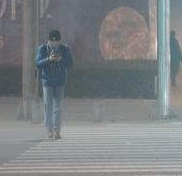person: (35, 29, 71, 140), (169, 30, 181, 90)
